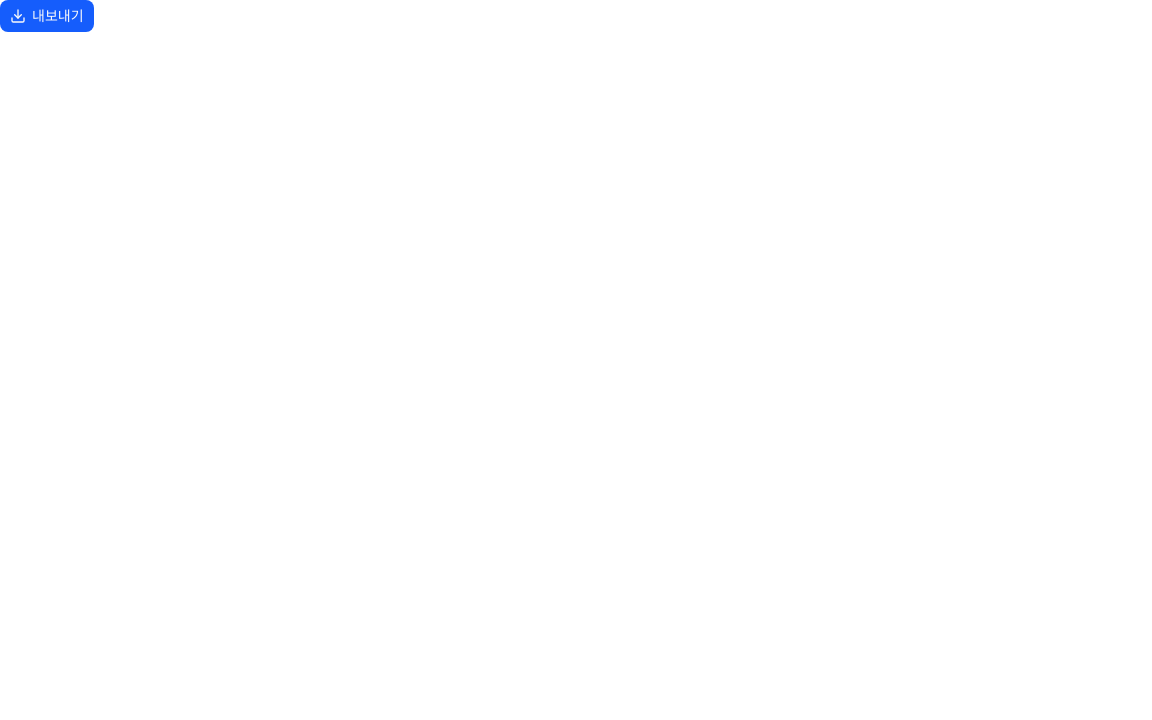
내보내기 › 취소하면 내보내기를 중단하고 내려받지 않는다
This screenshot has width=1152, height=720.
Click the button "내보내기".
click(47, 16)  # box [0,0,94,32]
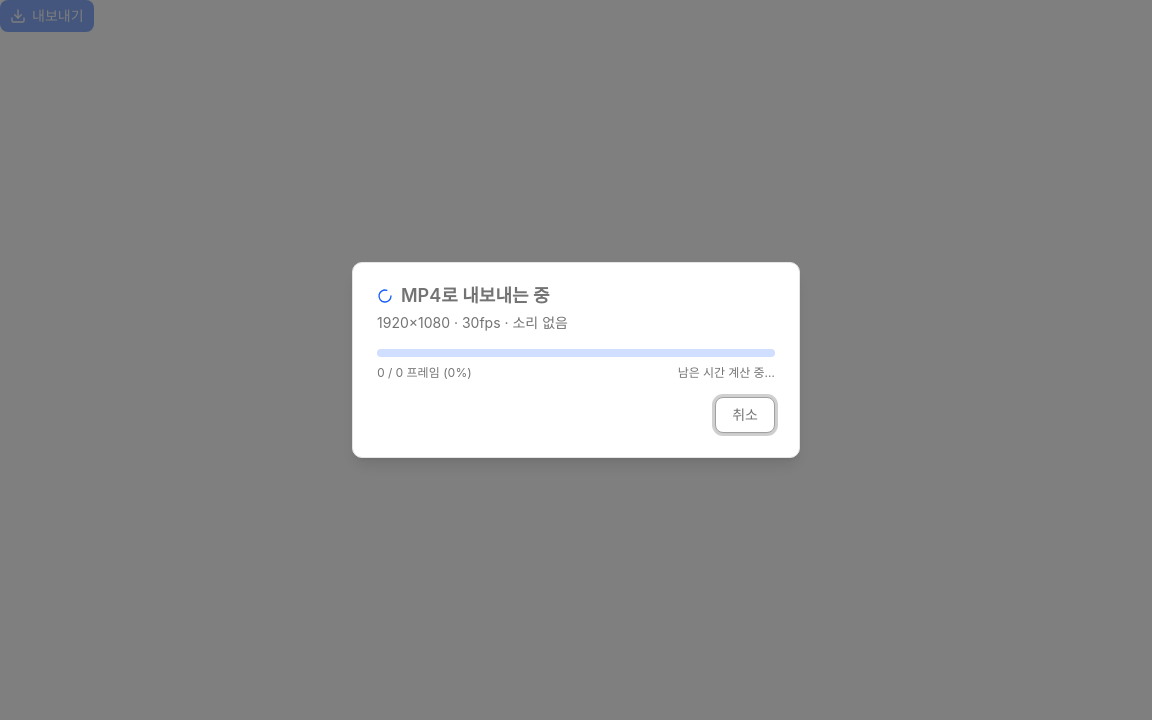
Click the button "취소".
click(745, 415)  # box [715,397,775,433]
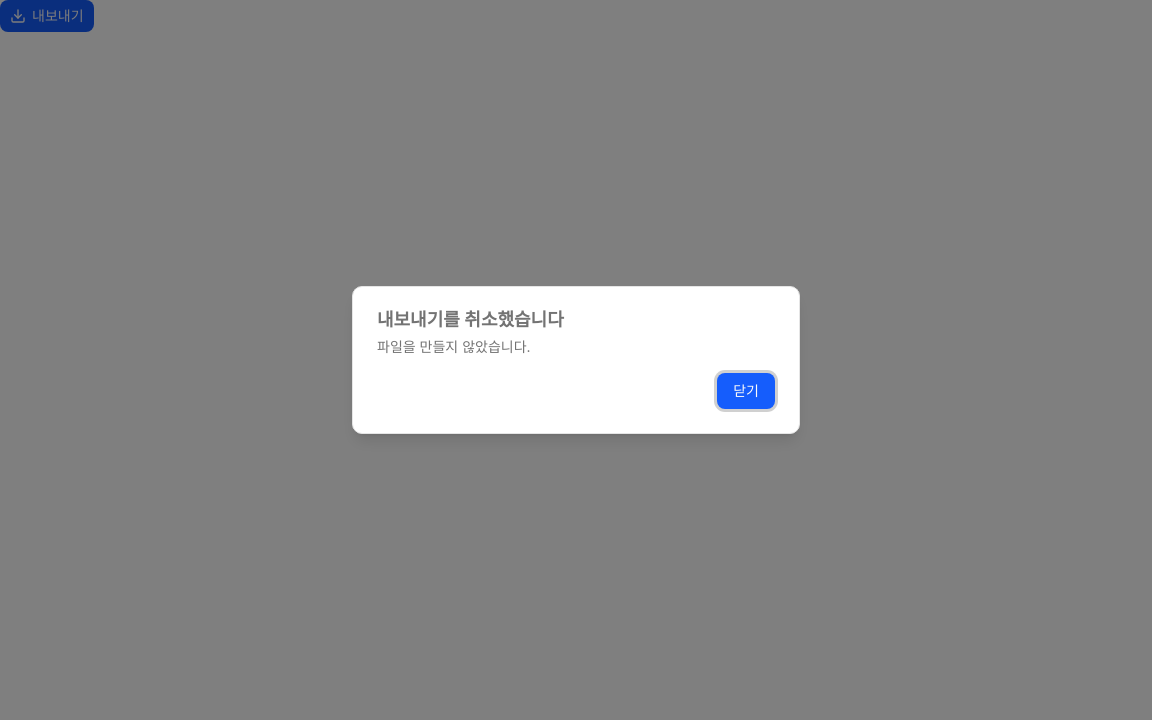
Expected: the dialog "내보내기를 취소했습니다" is shown, [352,286,800,434]
